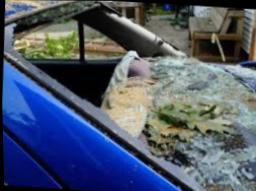Windshield: (5, 1, 224, 191)
